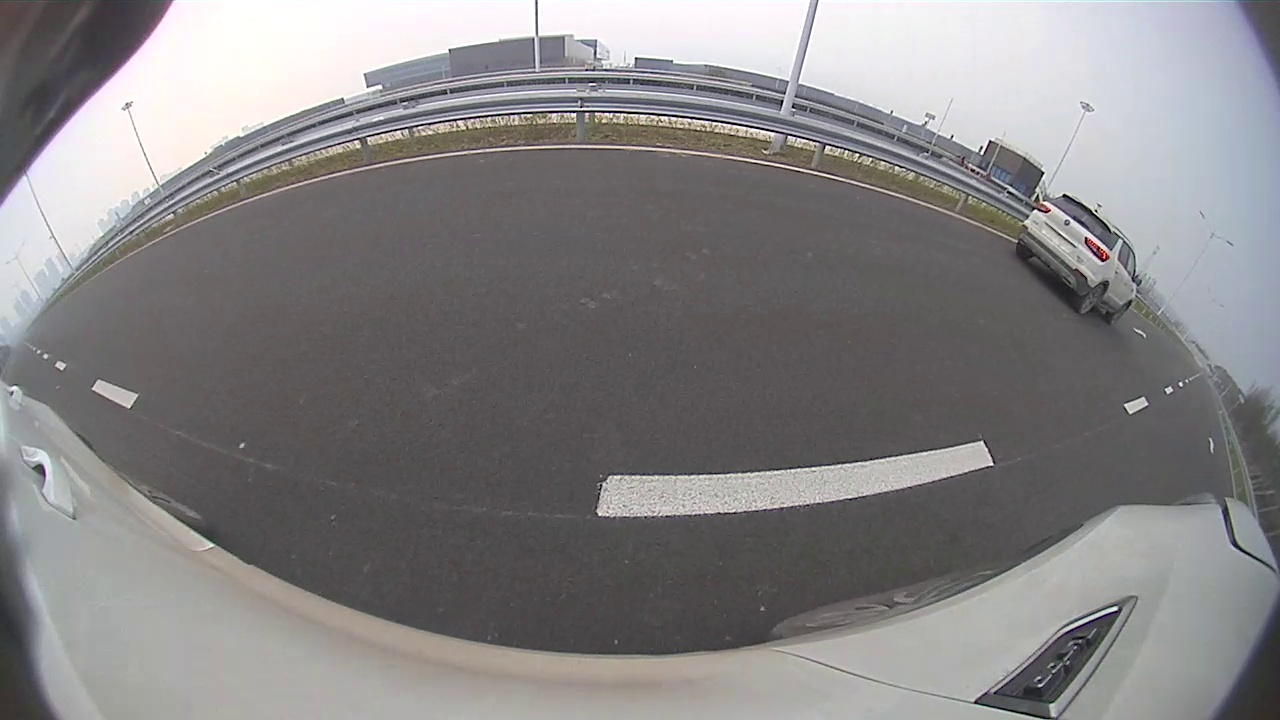car: (78, 111, 499, 394)
front: (463, 196, 494, 253)
rear: (228, 256, 335, 377)
